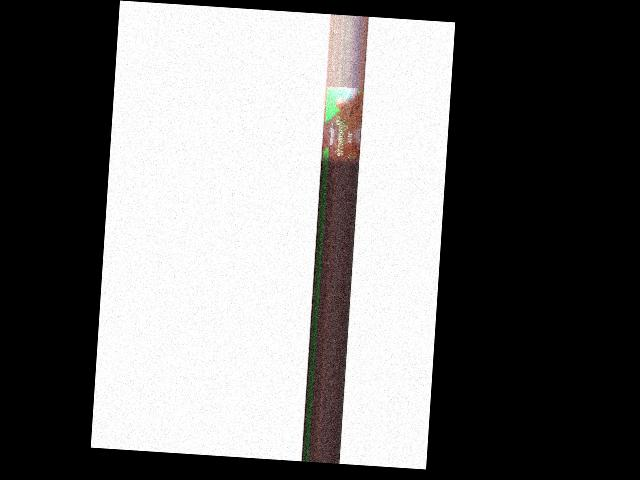chocolate: (322, 87, 363, 166)
